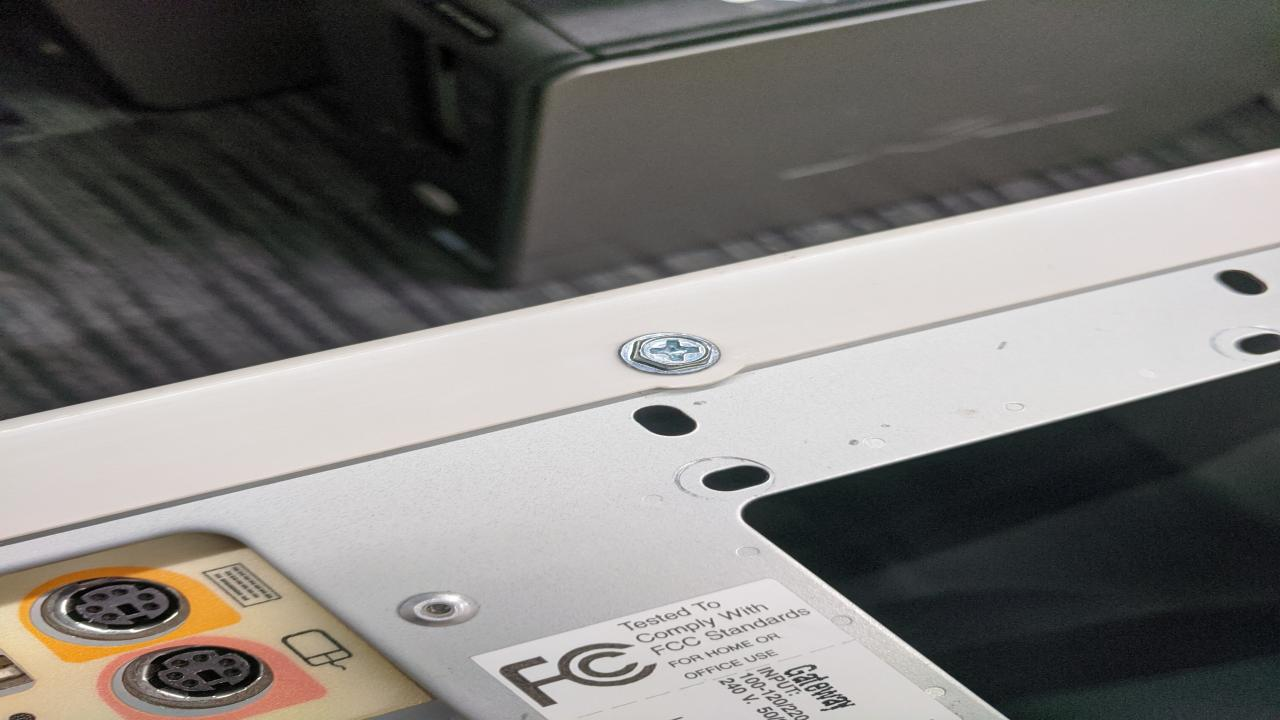CRS: (627, 335, 717, 371)
